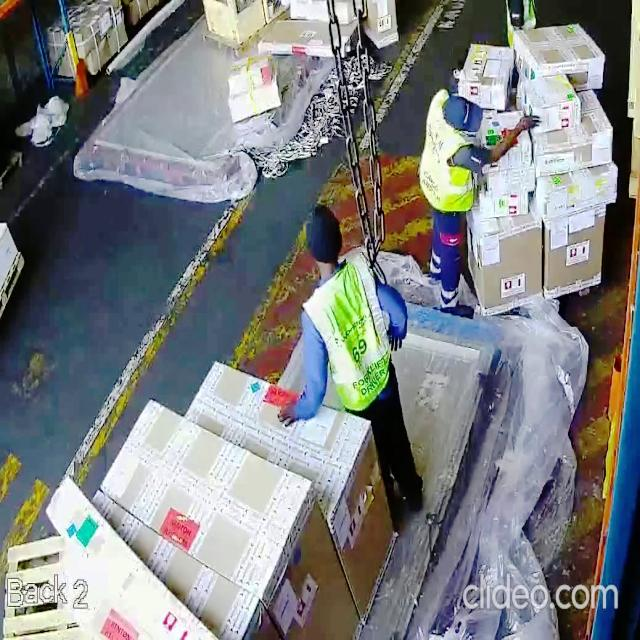Box: (117, 422, 312, 576), (196, 356, 392, 494), (475, 218, 540, 306), (547, 206, 607, 295), (516, 23, 608, 72), (223, 54, 286, 118), (543, 125, 623, 174), (538, 175, 638, 208), (463, 40, 505, 106), (523, 74, 576, 123), (478, 188, 526, 223)
